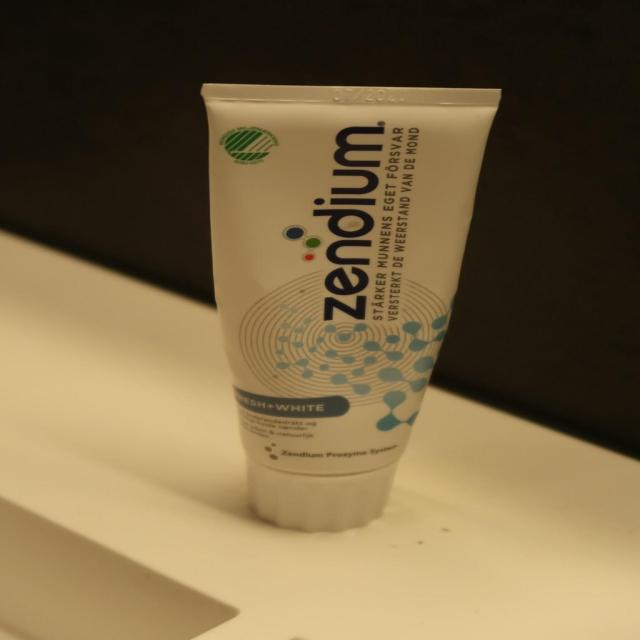Toothpaste: (184, 72, 516, 536)
